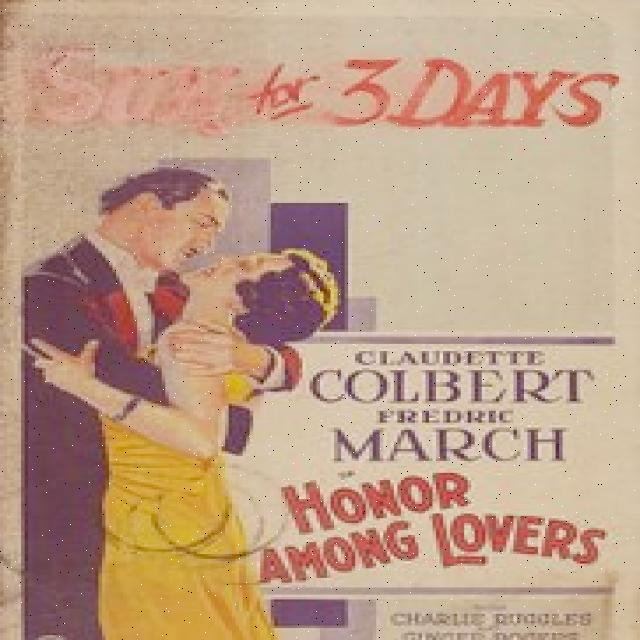movie-judul: (31, 41, 634, 144)
picture: (32, 167, 314, 640)
